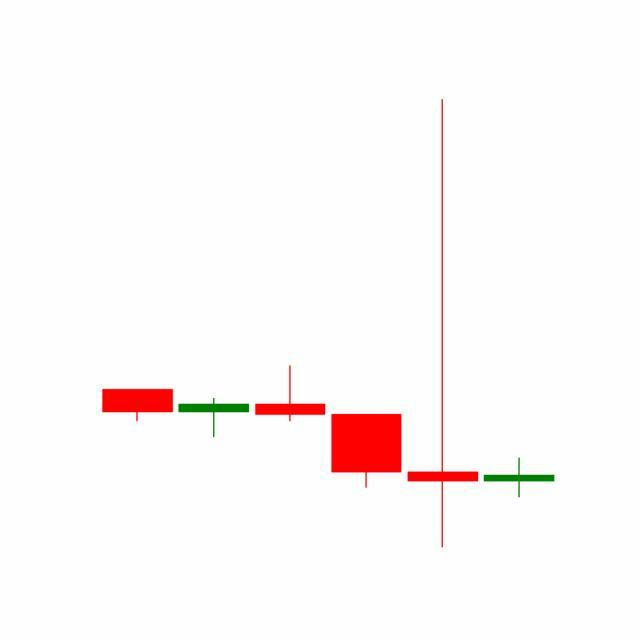Spinning Top: (404, 95, 482, 553)
